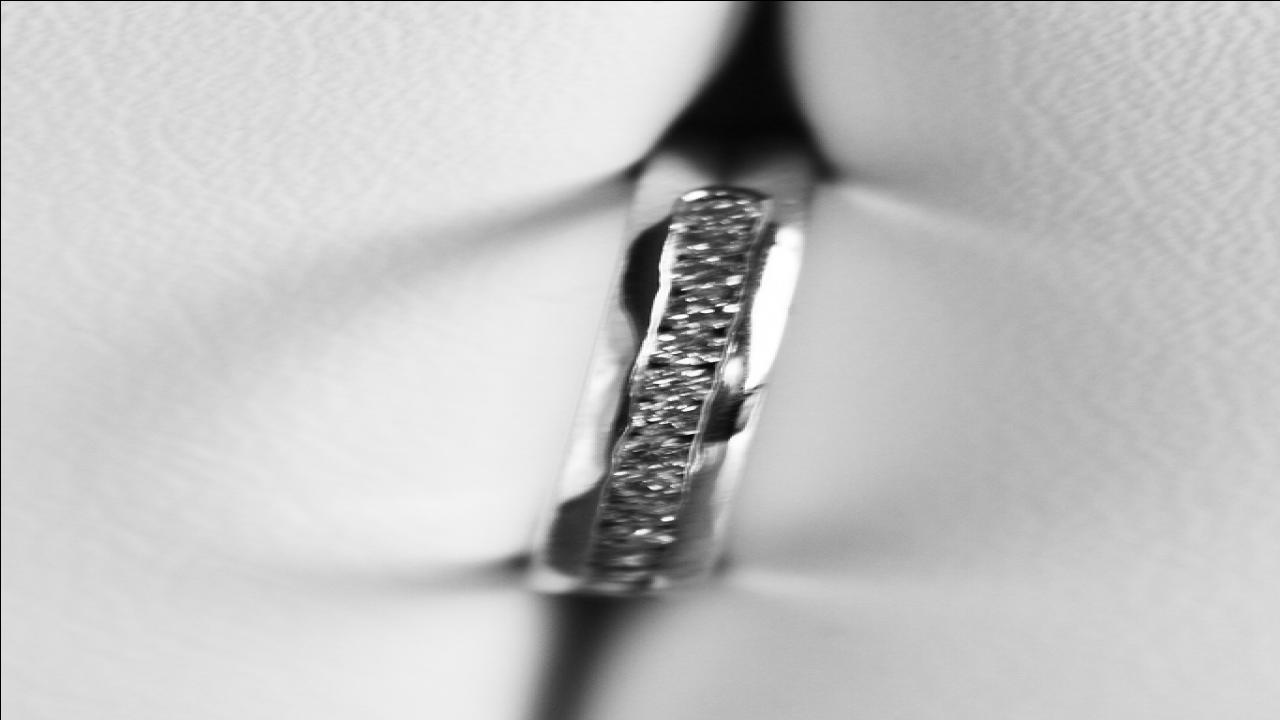ring: (528, 183, 812, 600)
